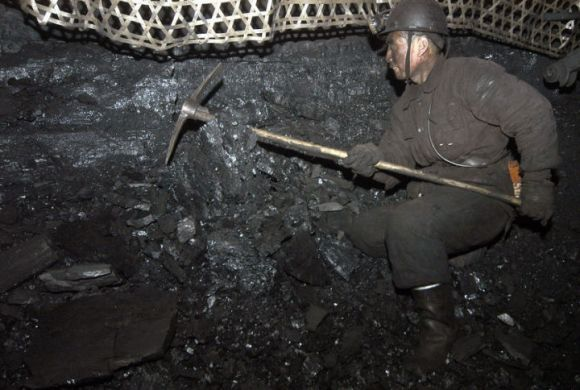helmet: (376, 4, 464, 80)
